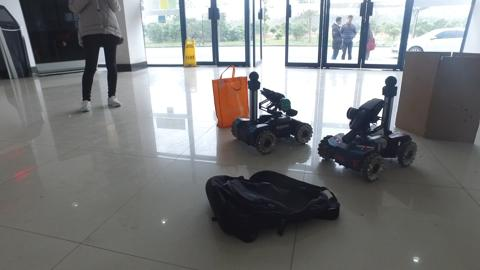bag: (206, 169, 341, 239), (213, 66, 247, 129)
box: (402, 47, 477, 145)
chariot: (319, 78, 416, 179), (241, 73, 310, 153)
